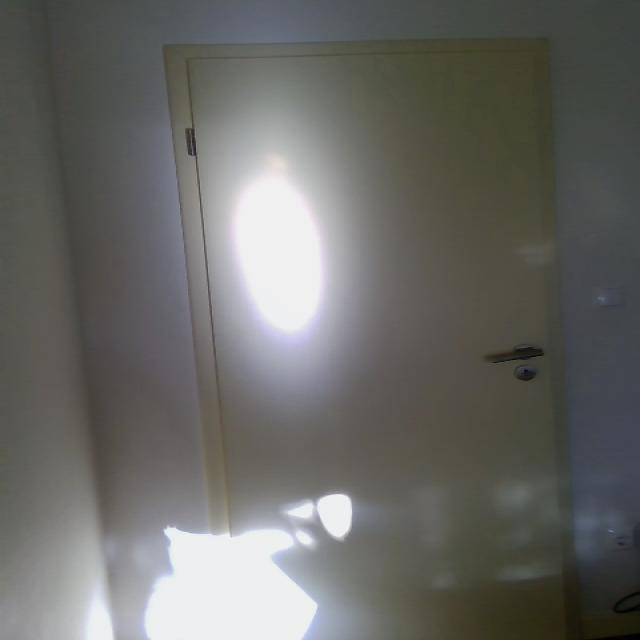door: (149, 32, 574, 640)
